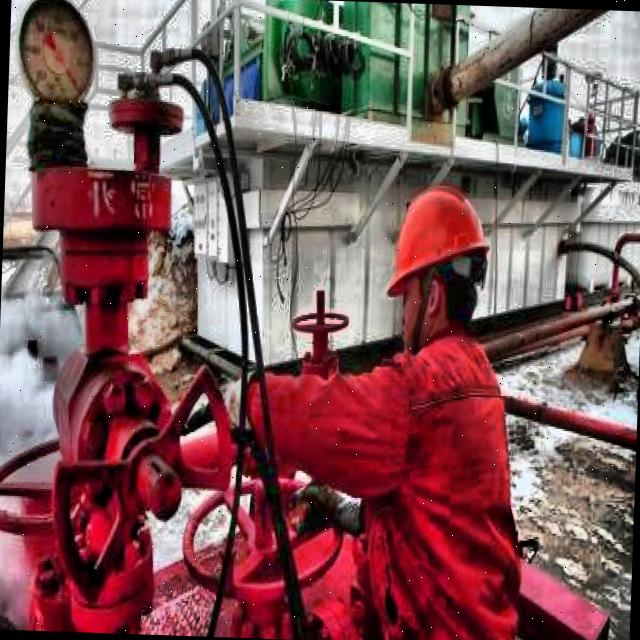helmet: (380, 169, 502, 362)
